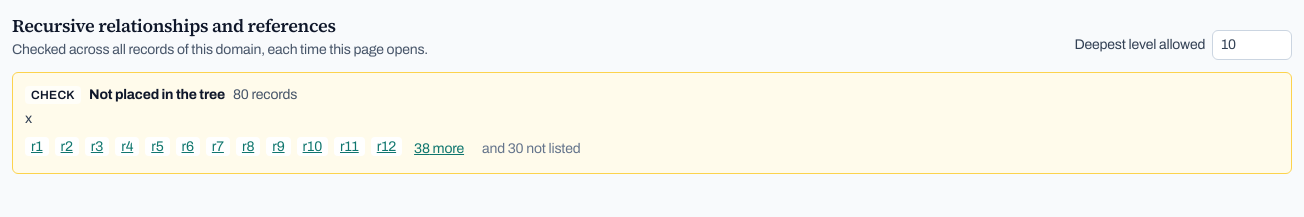
Test: DataChecks › shows twelve records, then the rest on request, and says how many were not listed
Expected: the list item with test id "finding-outside_tree" shows "and 30 not listed", [12,72,1292,174]
Click the button "38 more": (439, 149) [408,137,470,161]
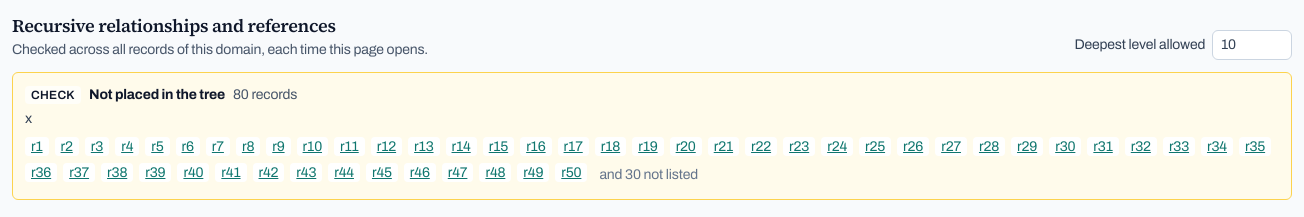
Result: the number of links is 50
